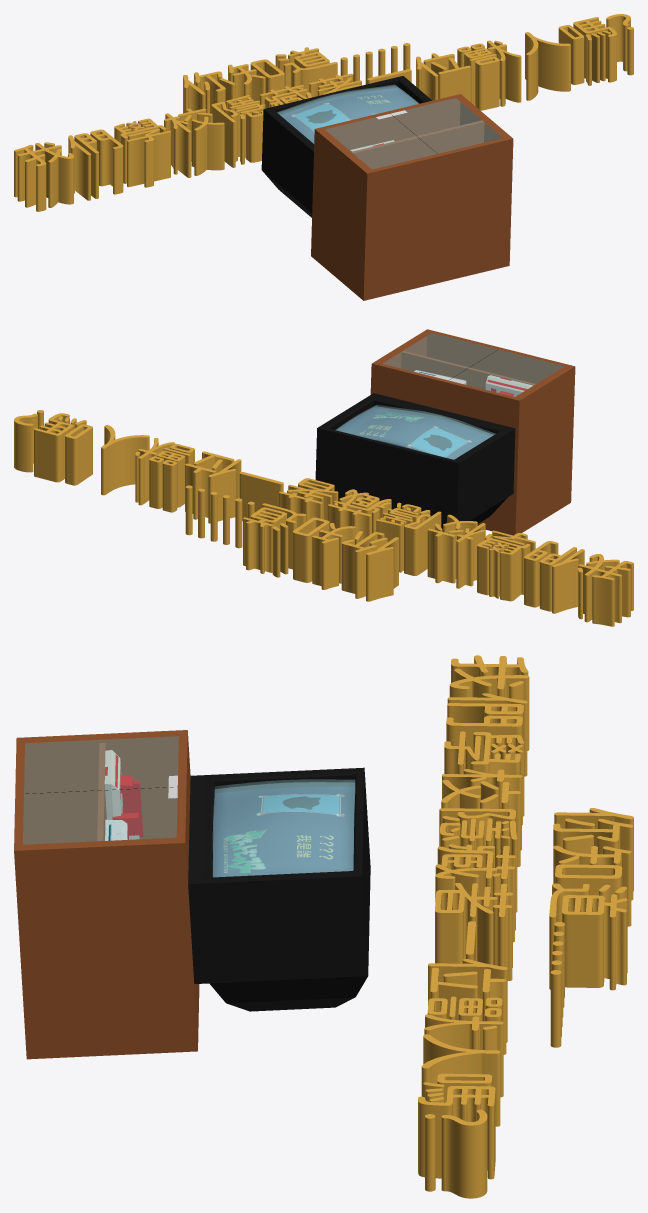
File: asset.glb
3 views of the same model, one above another, from view 1: azimuth 30°, elevation 25°; view 2: azimuth 150°, elevation 25°; view 3: azimuth 270°, elevation 25° (orthographic). The views are drawn at different scales.
Parts seen in each view (by area): view 1: Cube, Text; view 2: Text, Cube; view 3: Cube, Text.
Part boxes in pixels (x1=…): Cube: x1=261, y1=76, x2=513, y2=300; Text: x1=14, y1=14, x2=633, y2=211; Text: x1=14, y1=410, x2=633, y2=626; Cube: x1=315, y1=329, x2=575, y2=535; Cube: x1=14, y1=730, x2=370, y2=1059; Text: x1=418, y1=655, x2=633, y2=1198.
Bounding box in the file's own units: 7.84 × 1.69 × 4.37.
18 materials, 2 textured.
